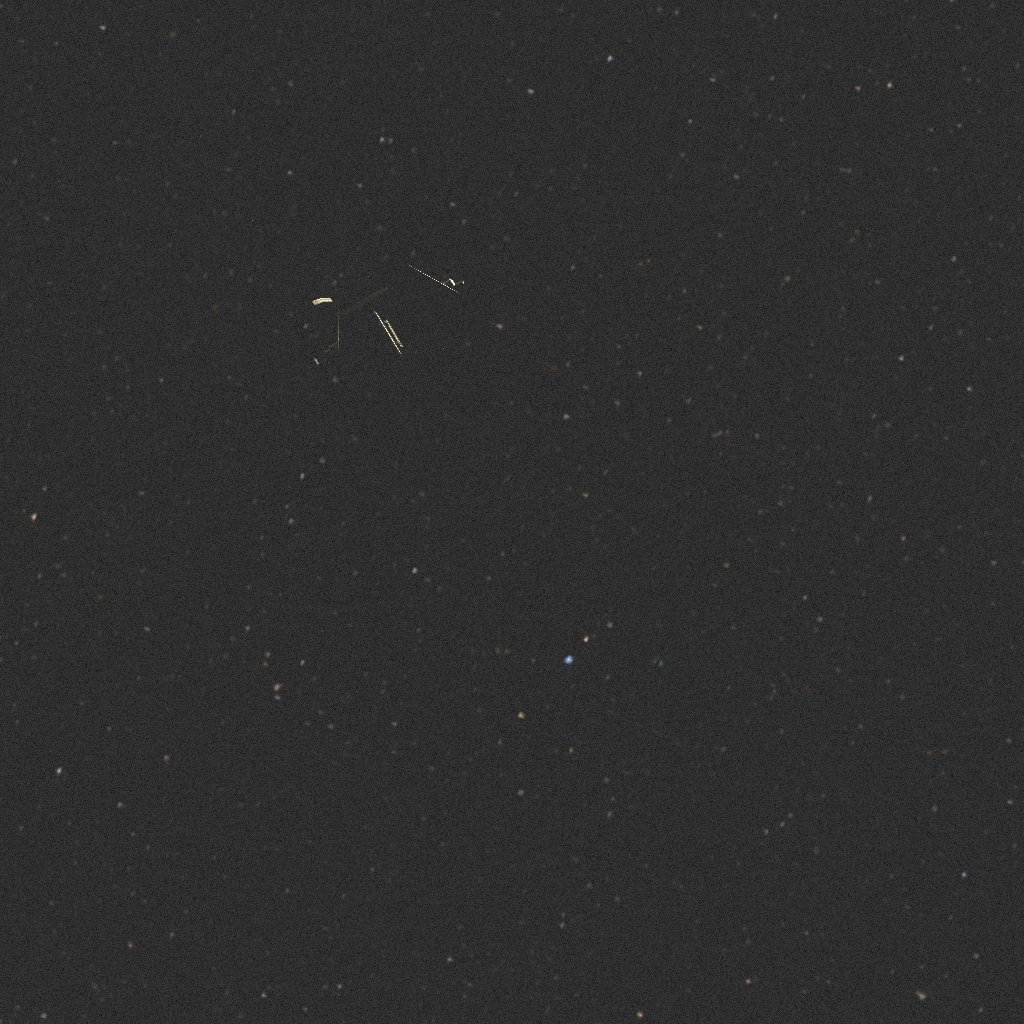earth_observation_sat_1: (145, 47, 464, 408)
